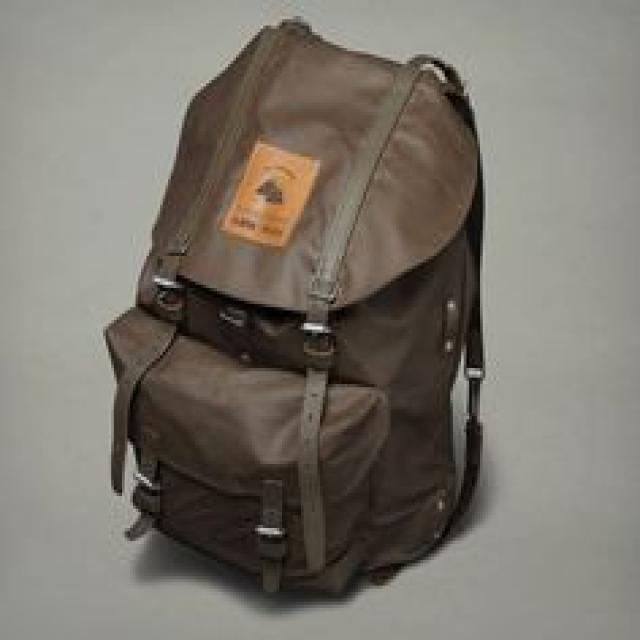backpack: (102, 17, 487, 596)
